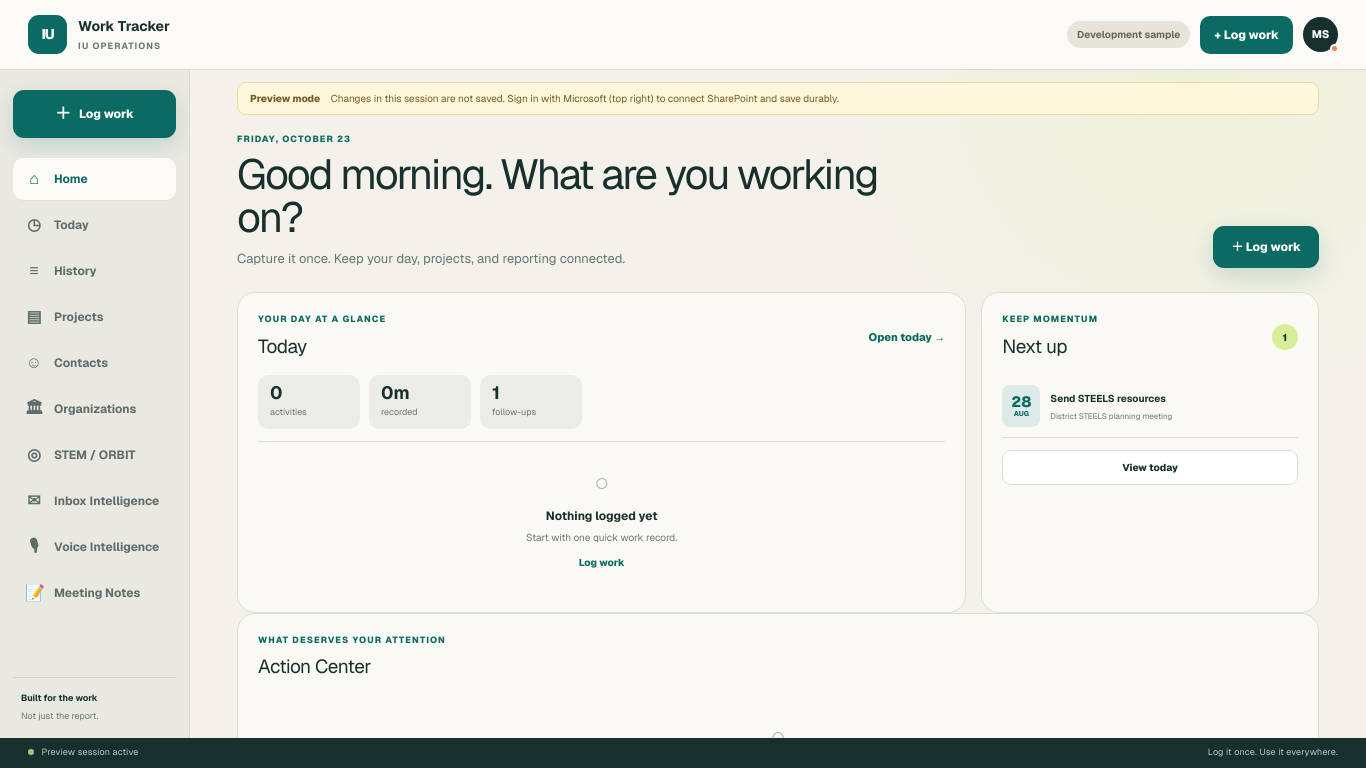
Test case: Relationship Snapshot, Connected Projects, and Recent Work (derived) › clicking a recent Work Record row opens the existing Log Work edit experience for that record
Click the button "☺ Contacts" at (94, 363), box [13, 342, 176, 384]
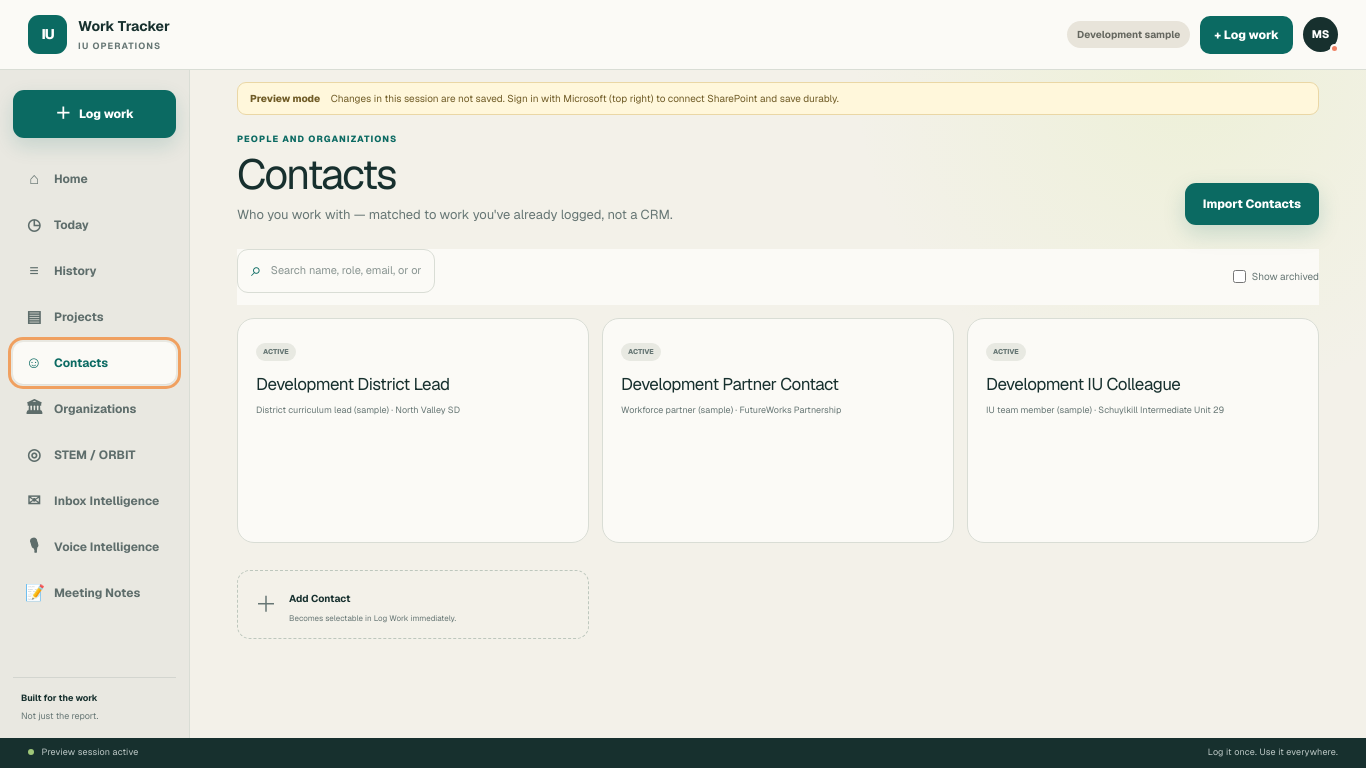
Click the button "Development District Lead" at (413, 377), box [256, 337, 570, 417]
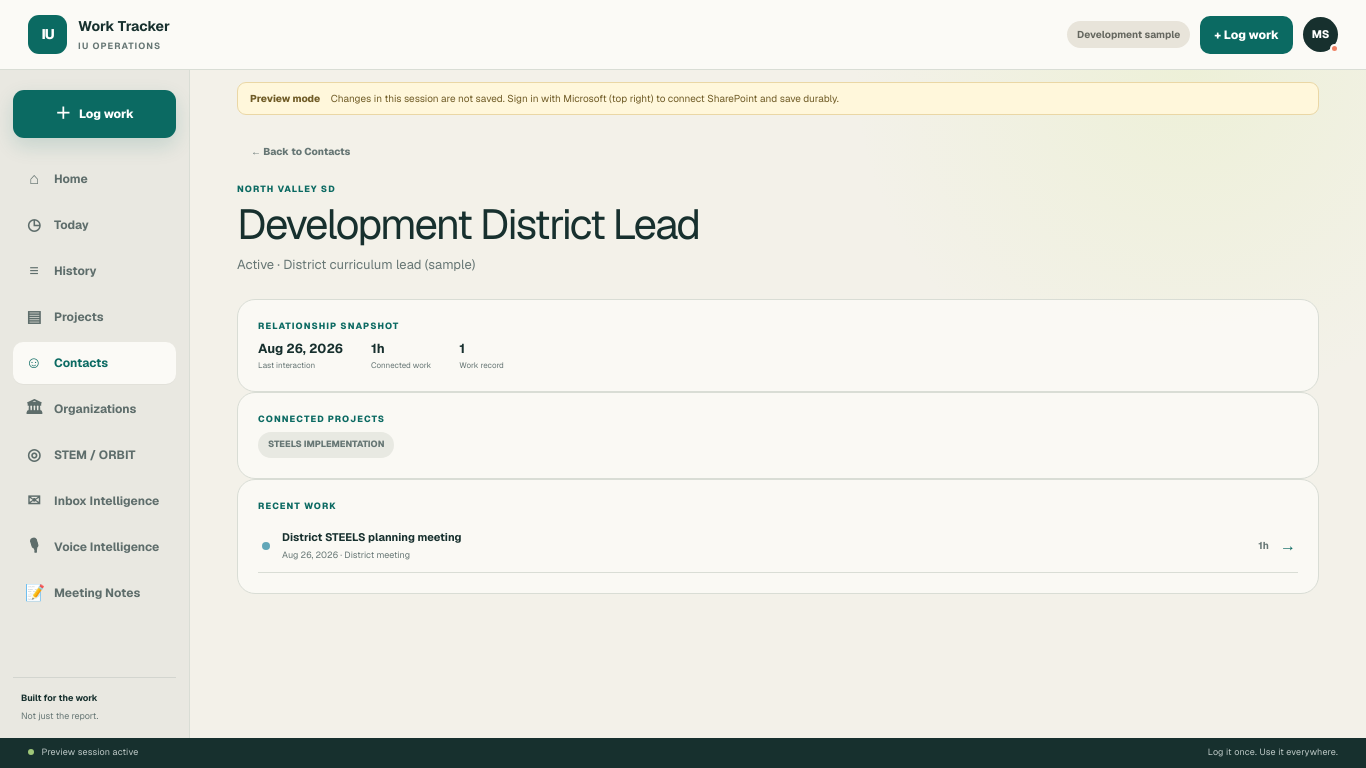
Click the text "District STEELS planning meeting" at (372, 537), box [282, 530, 462, 544]
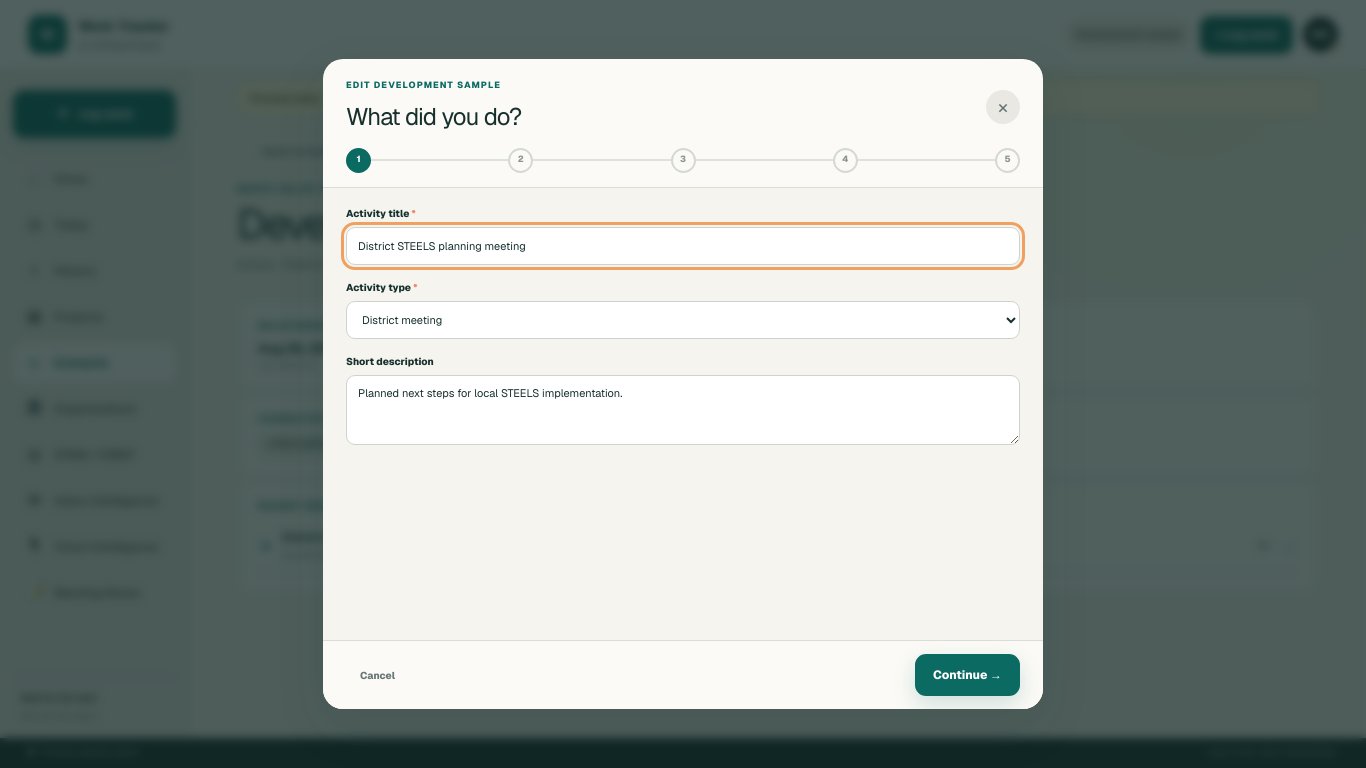
Expected: the field showing "District STEELS planning meeting" is shown, [346, 226, 1020, 265]
